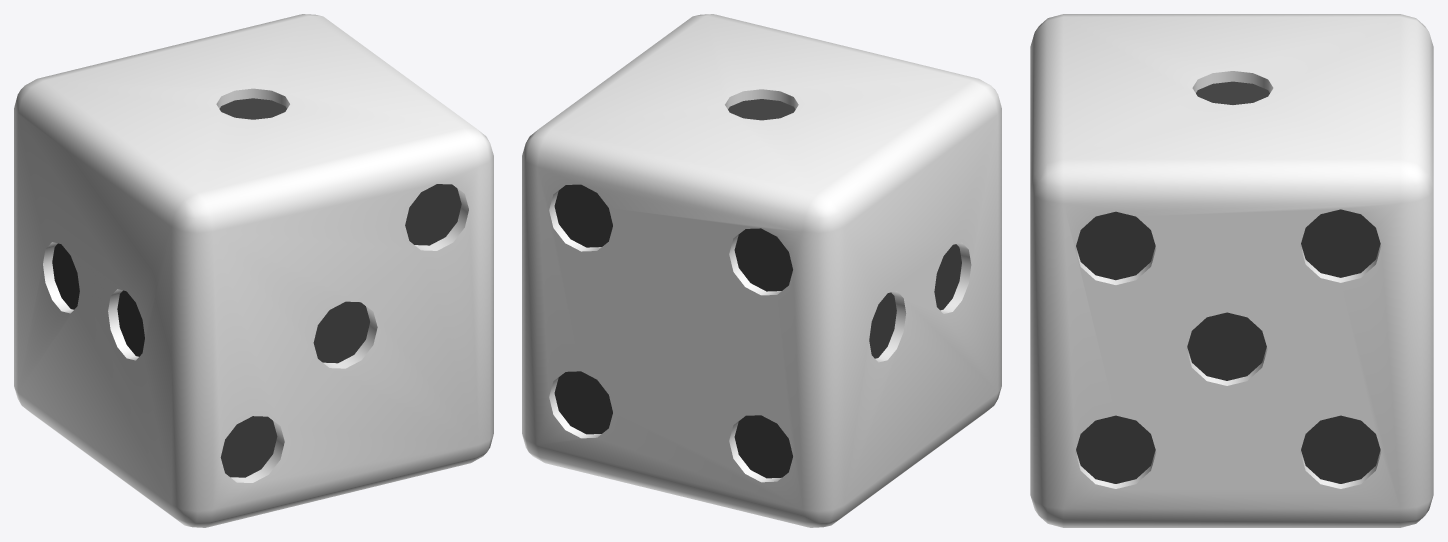
Rendered from Dice_3.fbx.
3 renders of one model, left to right at view 1: azimuth 30°, elevation 25°; view 2: azimuth 150°, elevation 25°; view 3: azimuth 270°, elevation 25°, orthographic. The views are drawn at different scales.
Visible parts, largest first — view 1: Dice_3; view 2: Dice_3; view 3: Dice_3.
Part boxes in pixels (bbox=[...]): Dice_3: bbox=[14, 14, 493, 527]; Dice_3: bbox=[522, 14, 1001, 527]; Dice_3: bbox=[1030, 14, 1433, 527].
Bounding box in the file's own units: 0.0861 × 0.0861 × 0.0861.
